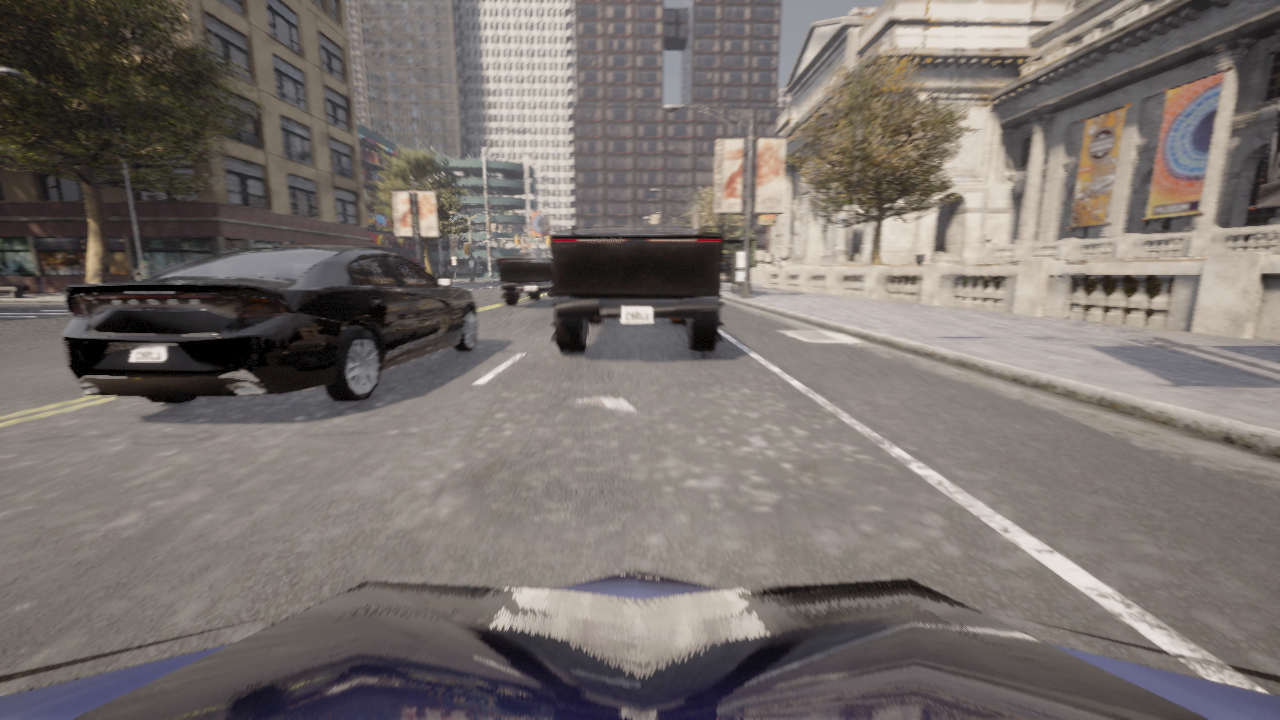cyclist: (0, 569, 1279, 719), (60, 239, 476, 403), (548, 226, 723, 353), (498, 251, 552, 306), (548, 292, 553, 296)
